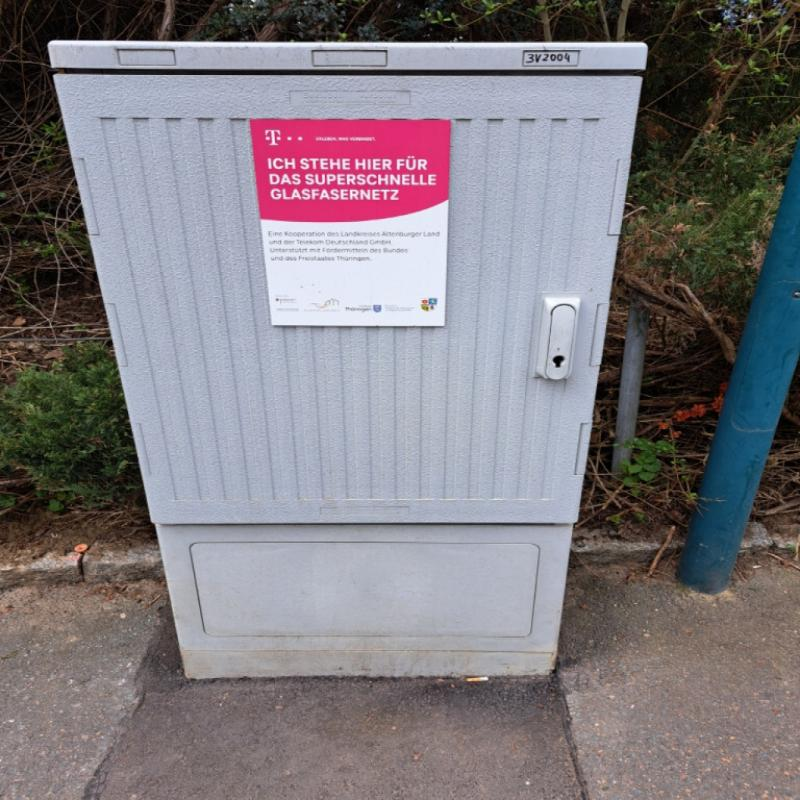NT-Gehause: (46, 40, 648, 683)
Steaker: (246, 116, 453, 323)
